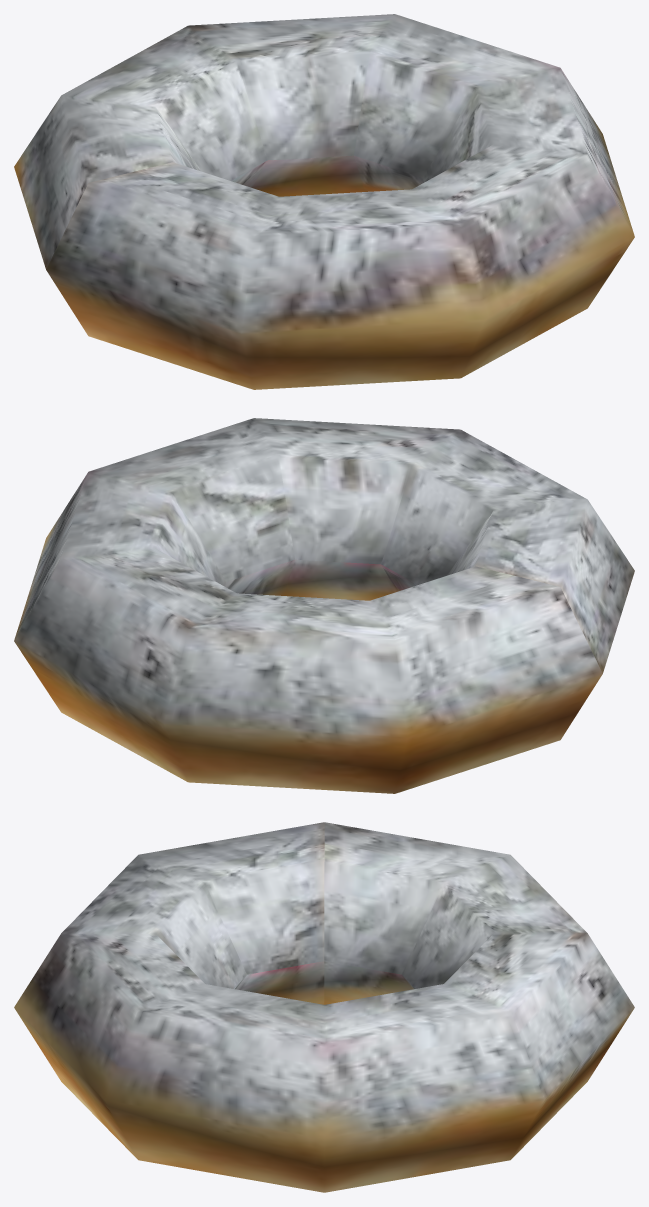
Rendered from Donuts_03.glb.
3 renders of one model, top to bottom at view 1: azimuth 30°, elevation 25°; view 2: azimuth 150°, elevation 25°; view 3: azimuth 270°, elevation 25°, orthographic. The views are drawn at different scales.
Visible parts, largest first — view 1: Donuts_03; view 2: Donuts_03; view 3: Donuts_03.
Boxes of the visible parts, x1,y1,x2,y2 form: Donuts_03: (14, 14, 634, 389); Donuts_03: (14, 418, 634, 793); Donuts_03: (14, 822, 634, 1192).
Bounding box in the file's own units: 0.1882 × 0.0495 × 0.1882.
Materials: 1 (1 with a texture image).
